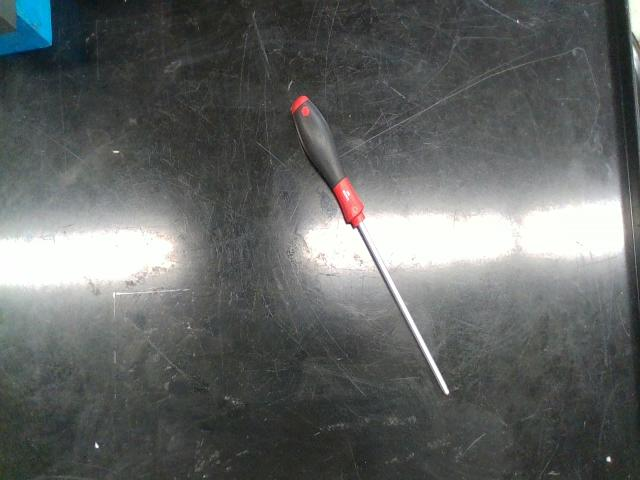Screwdriver: (291, 95, 449, 395)
